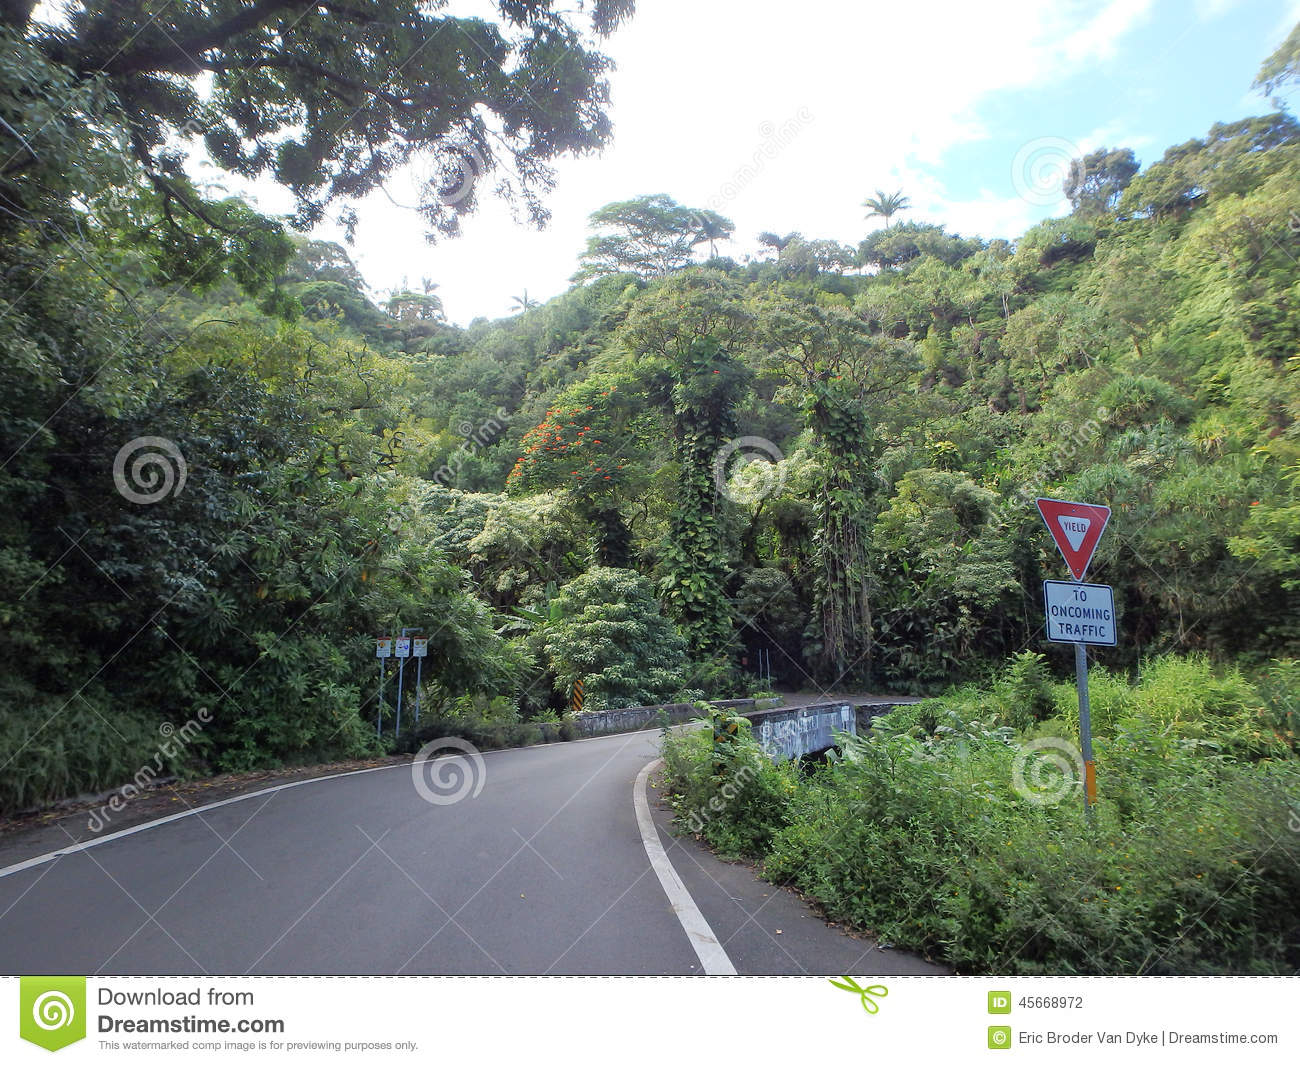yield_sign: (1033, 494, 1112, 581)
